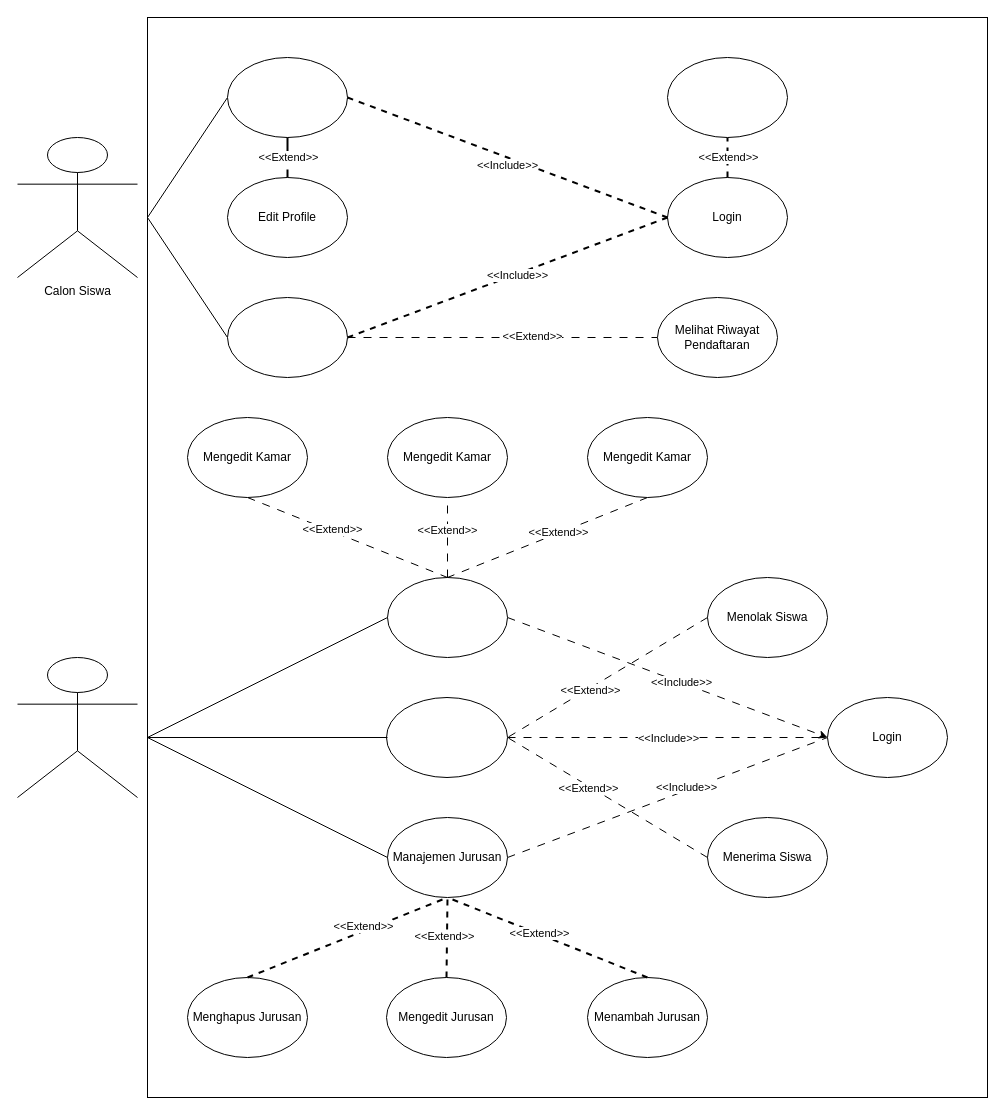
Image size: 1005x1115. Some labels were removed from this diagram. Each missing label, with the centre of its shape:
"Administrator" goes at pixel 77 727.
"Daftar PPDB" goes at pixel 287 337.
"Manajemen Kamar" goes at pixel 447 617.
"Melihat Calon Siswa" goes at pixel 447 737.
"Melihat Profile" goes at pixel 287 97.
"Registrasi" goes at pixel 727 97.
